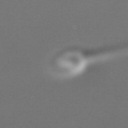normal: (86, 40, 128, 65)
